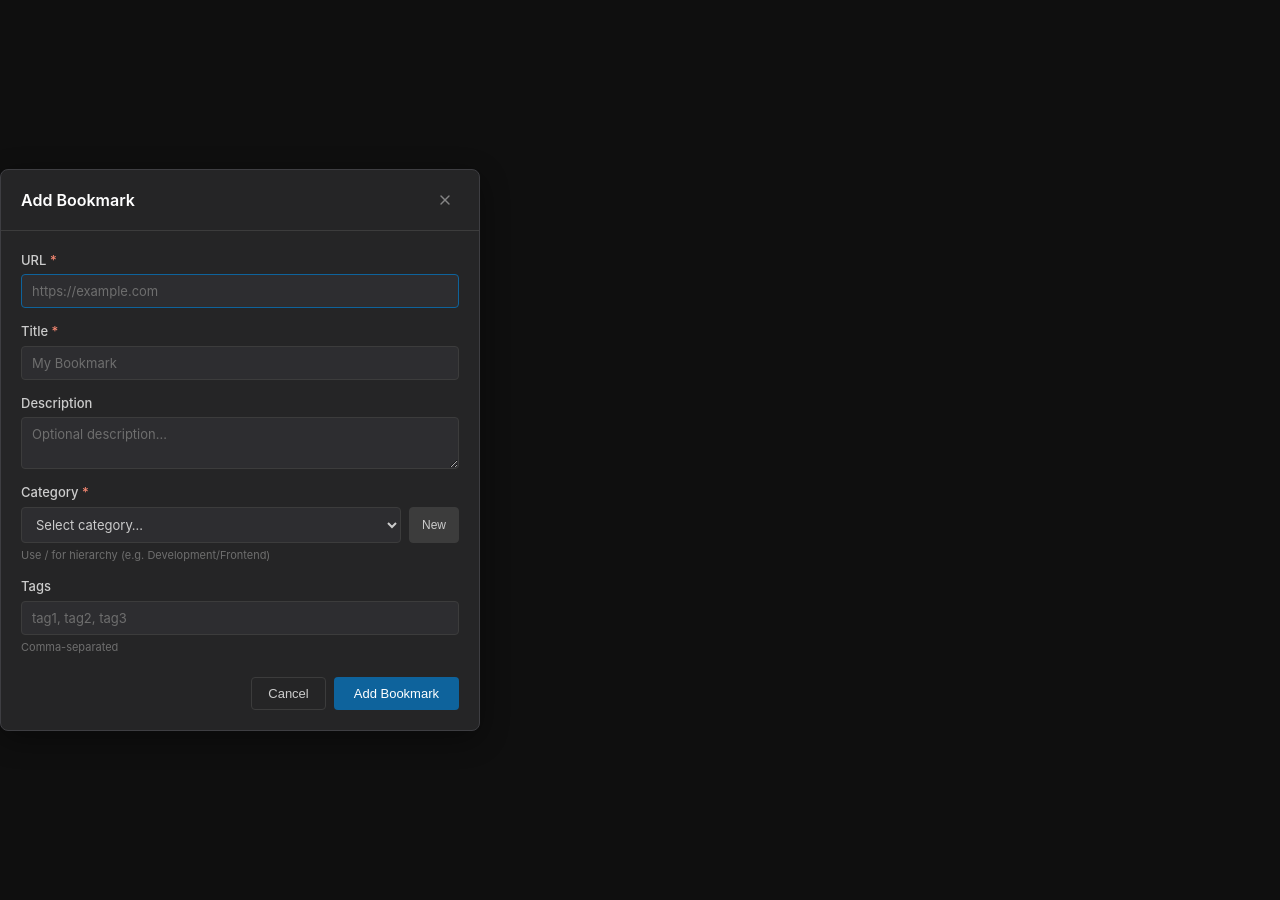
Test case: BookmarkDialog › selects a parent category in new category mode
Note: Switch to new category mode
Click the button "New". click: (434, 525)
box: [409,507,459,543]
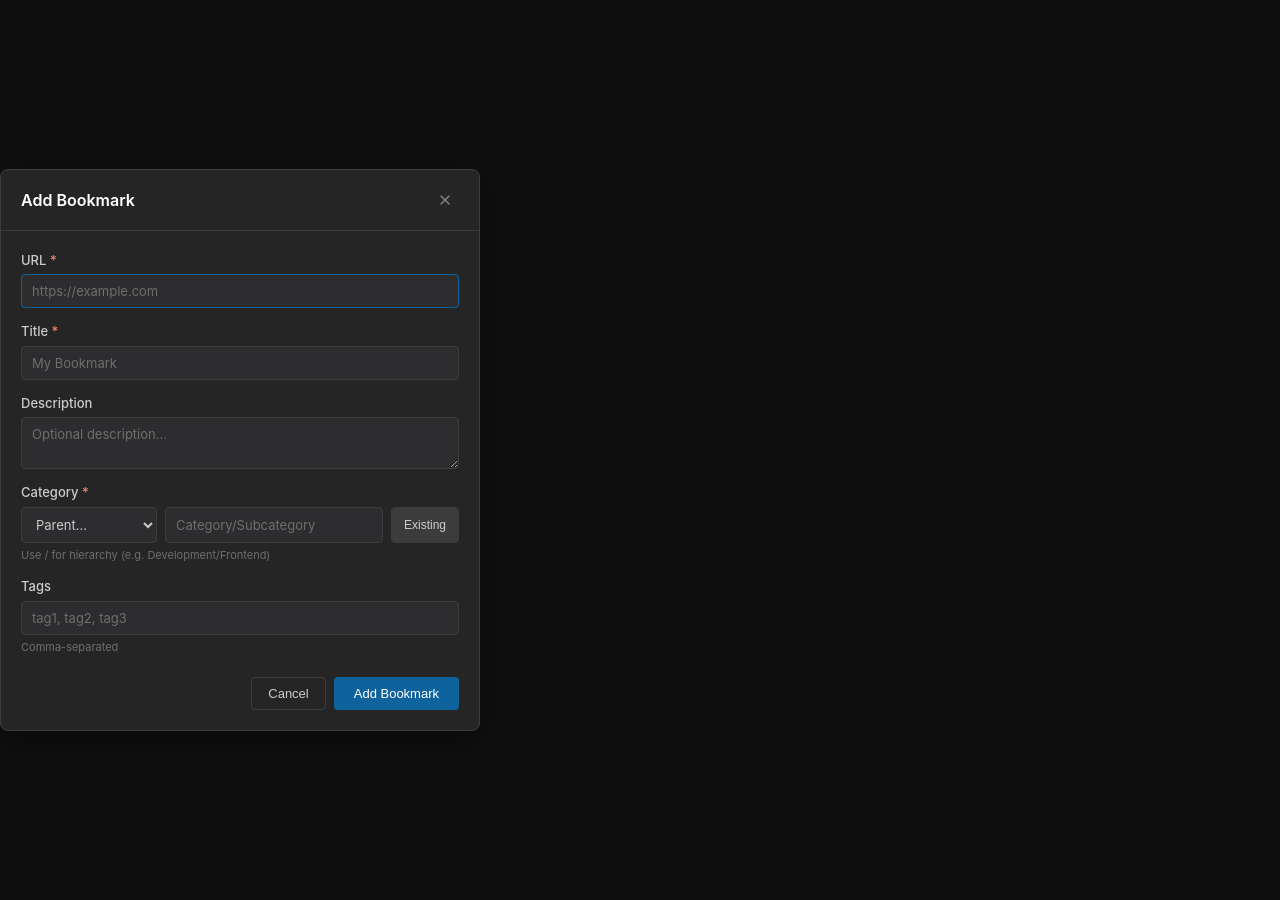
Note: Type a subcategory first
Type "Frontend" into the field with placeholder "Category/Subcategory". click: (274, 525)
box: [165,507,383,543]
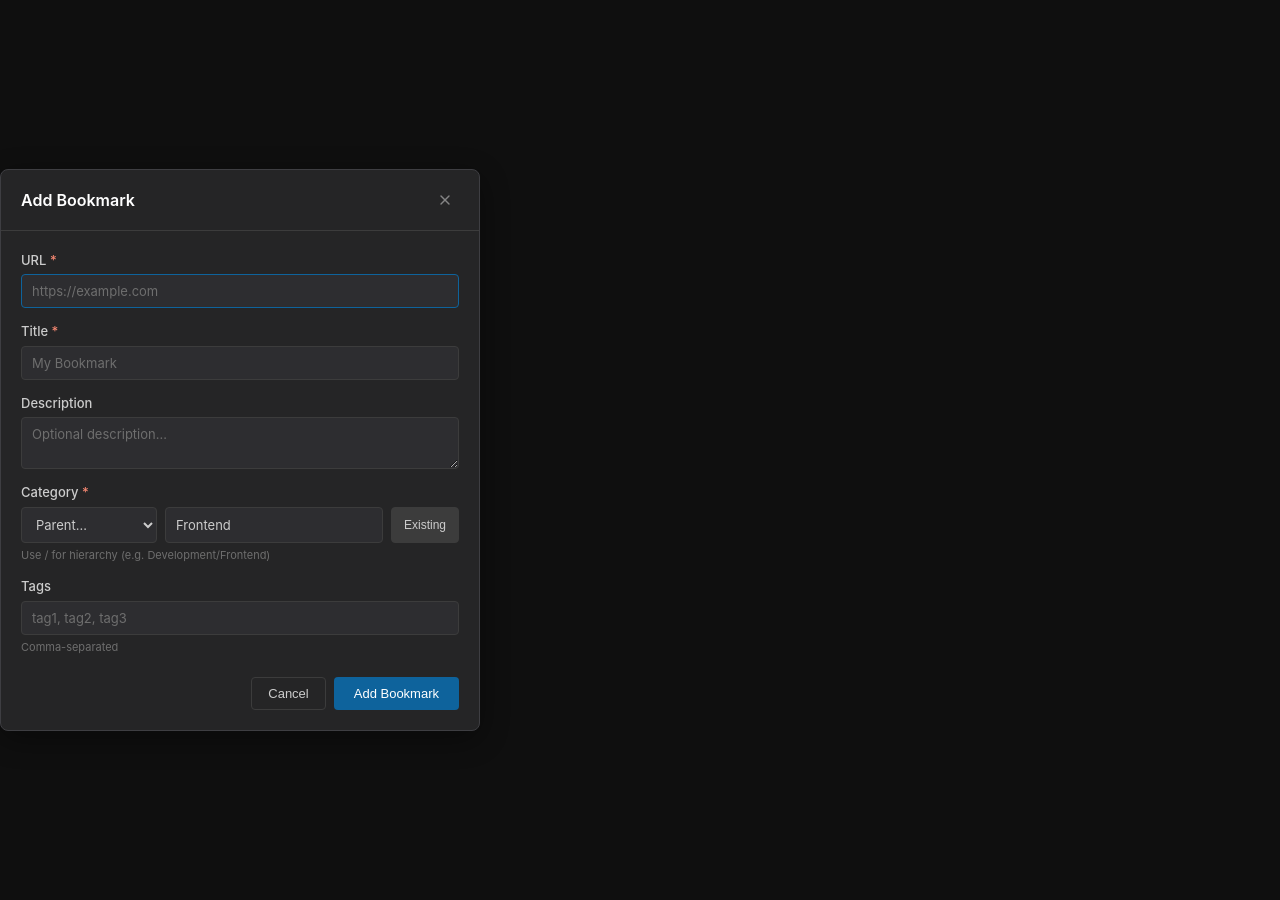
Note: Select a parent from the dropdown
Select "Development" in the dropdown showing "Parent…". click: (89, 525)
box: [21,507,157,543]
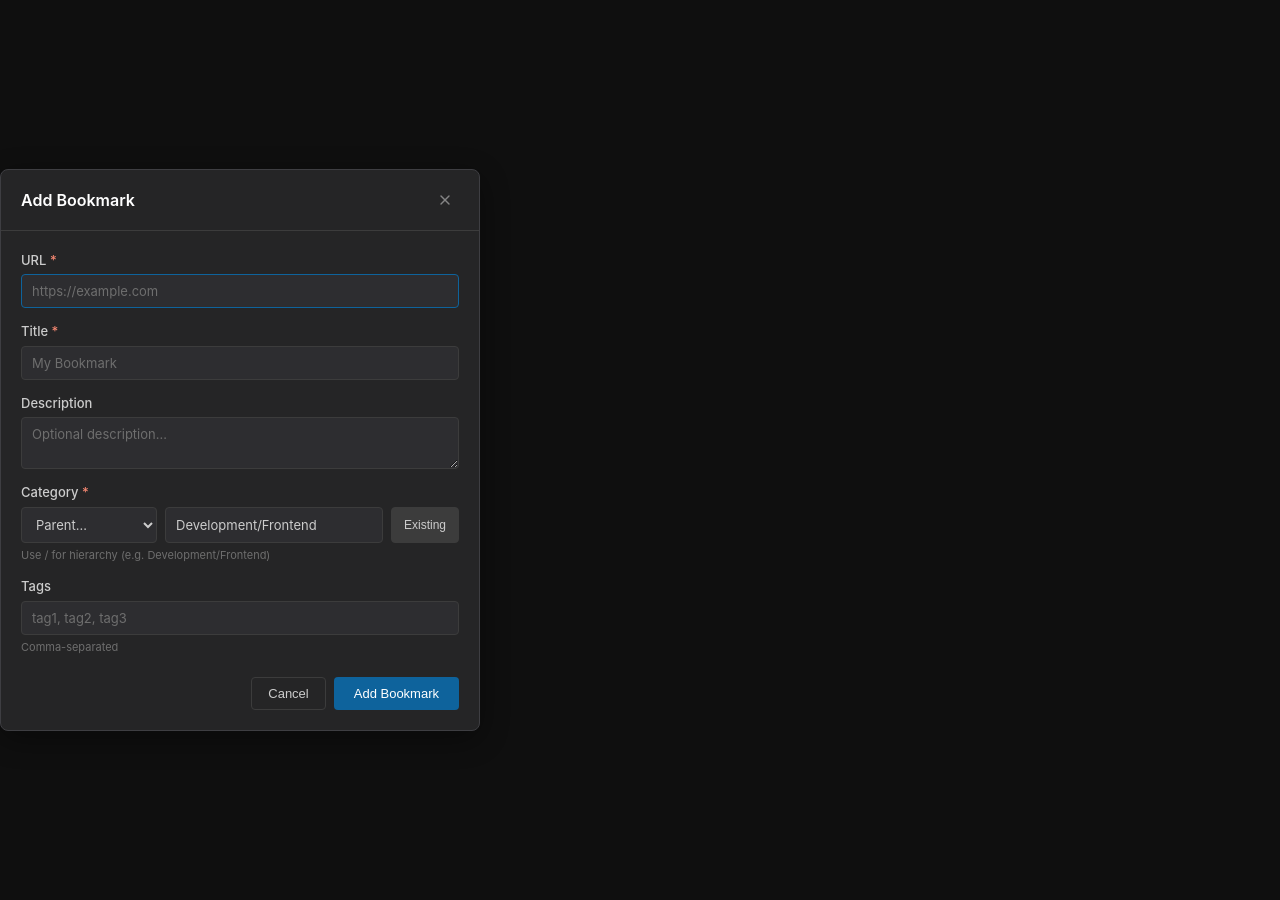
Result: the field with placeholder "Category/Subcategory" holds "Development/Frontend" at [165,507,383,543]
